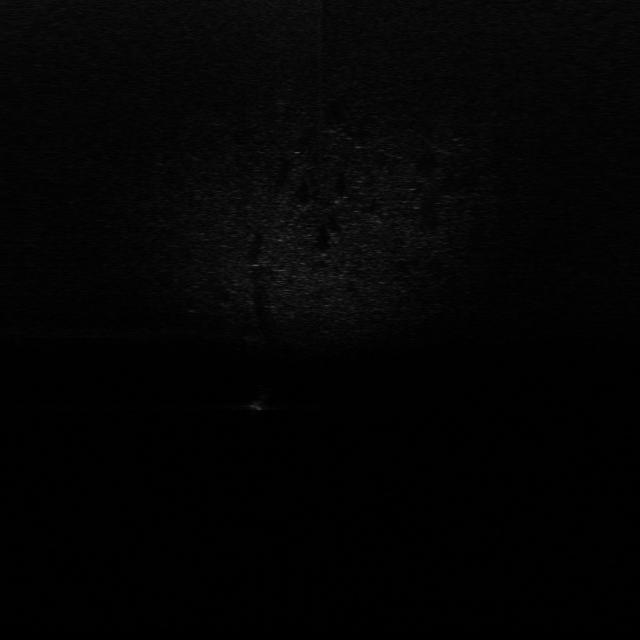human body: (246, 384, 280, 420)
